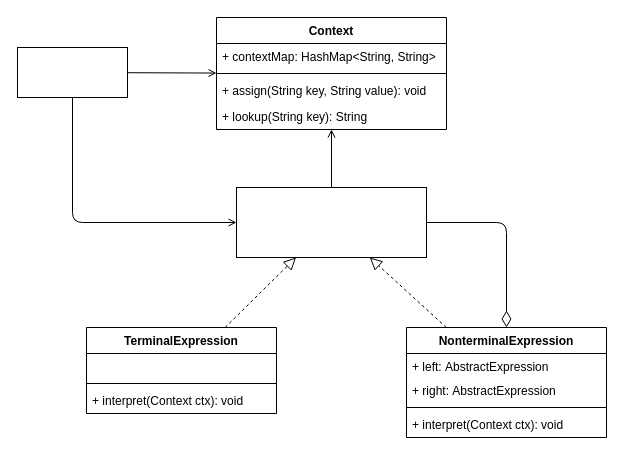
This 624x458 diagram has some shape labels left out. Each missing label, with the centre of its shape:
<<Interface>> AbstractExpression + interpret(Context ctx): void: [331,222]
Client: [72,72]
